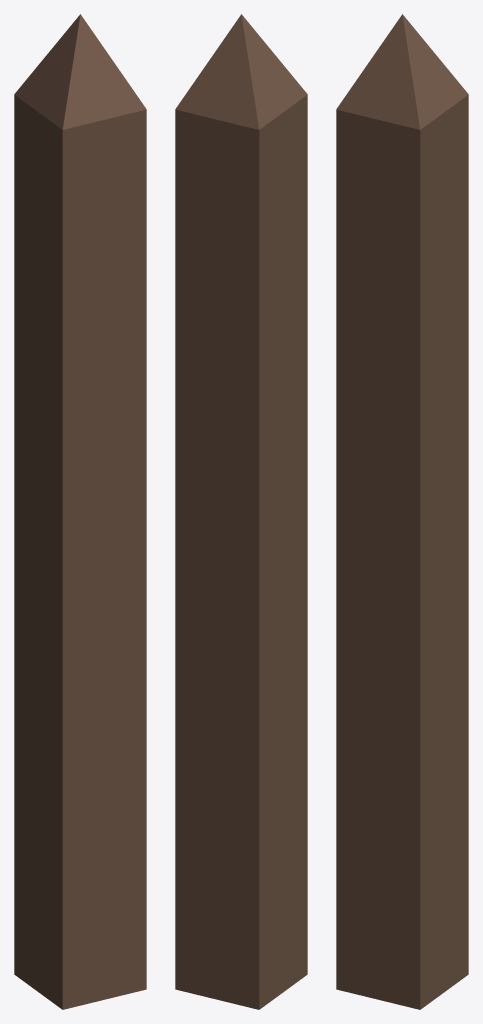
The model's file is direction_post.fbx.
3 views of the same model, side by side, from view 1: azimuth 30°, elevation 25°; view 2: azimuth 150°, elevation 25°; view 3: azimuth 330°, elevation 25° (orthographic).
Parts seen in each view (by area): view 1: direction.post; view 2: direction.post; view 3: direction.post.
Part boxes in pixels (left/top/right/bottom): direction.post: left=14, top=14, right=146, bottom=1009; direction.post: left=175, top=14, right=307, bottom=1009; direction.post: left=336, top=14, right=468, bottom=1009.
Bounding box in the file's own units: 20 × 220 × 20.
